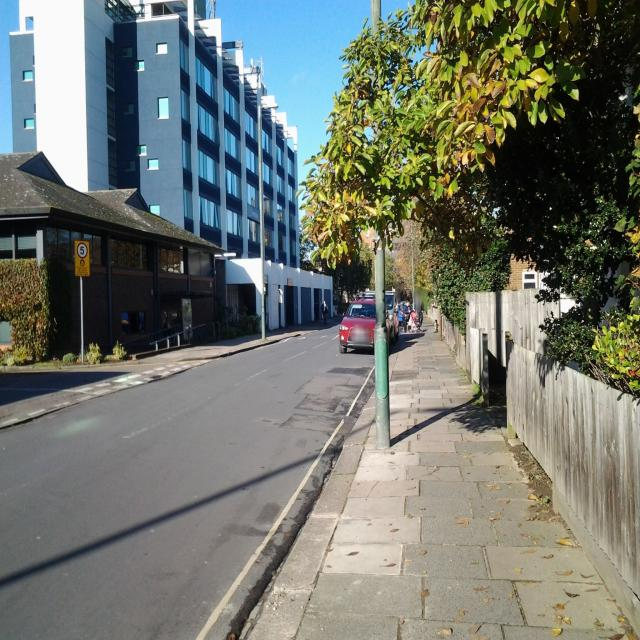car: (339, 298, 379, 354), (384, 290, 399, 344), (397, 300, 412, 331)
